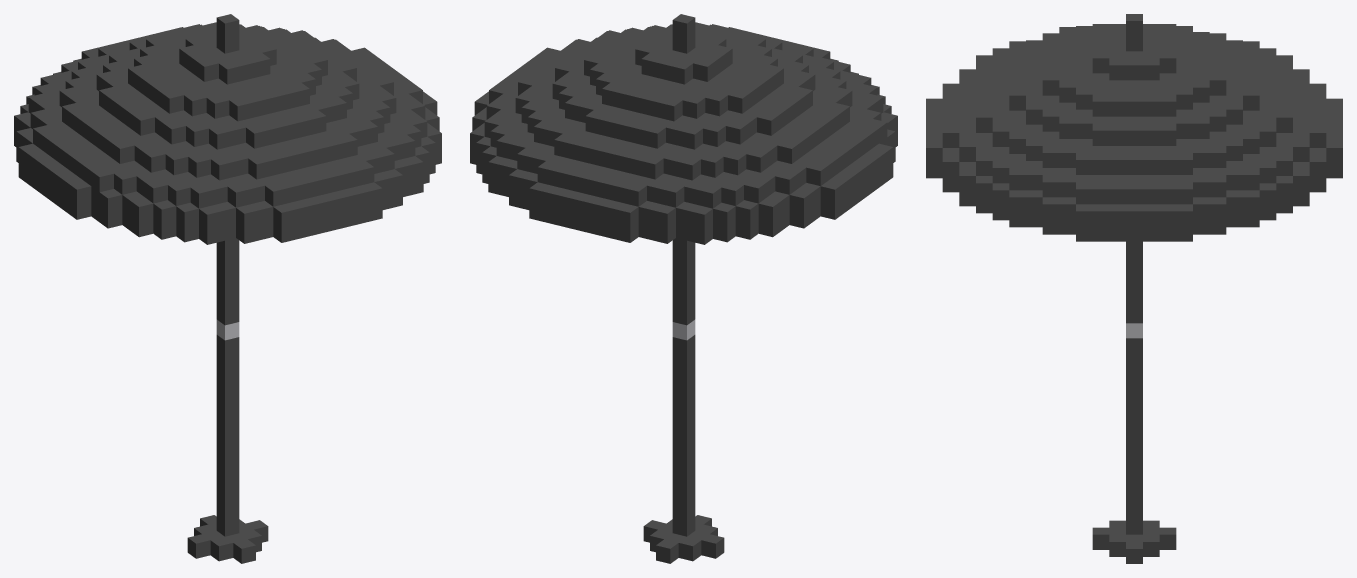
Rendered from kasa.obj.
The picture shows the model from 3 angles, left to right: view 1: azimuth 30°, elevation 25°; view 2: azimuth 150°, elevation 25°; view 3: azimuth 270°, elevation 25°; orthographic projection.
Parts seen in each view (by area): view 1: mapkari-1; view 2: mapkari-1; view 3: mapkari-1.
Part boxes in pixels (x1,y1,x2,y2): mapkari-1: [14, 14, 441, 563]; mapkari-1: [470, 14, 897, 563]; mapkari-1: [926, 14, 1342, 563].
Bounding box in the file's own units: 25 × 35 × 25.
